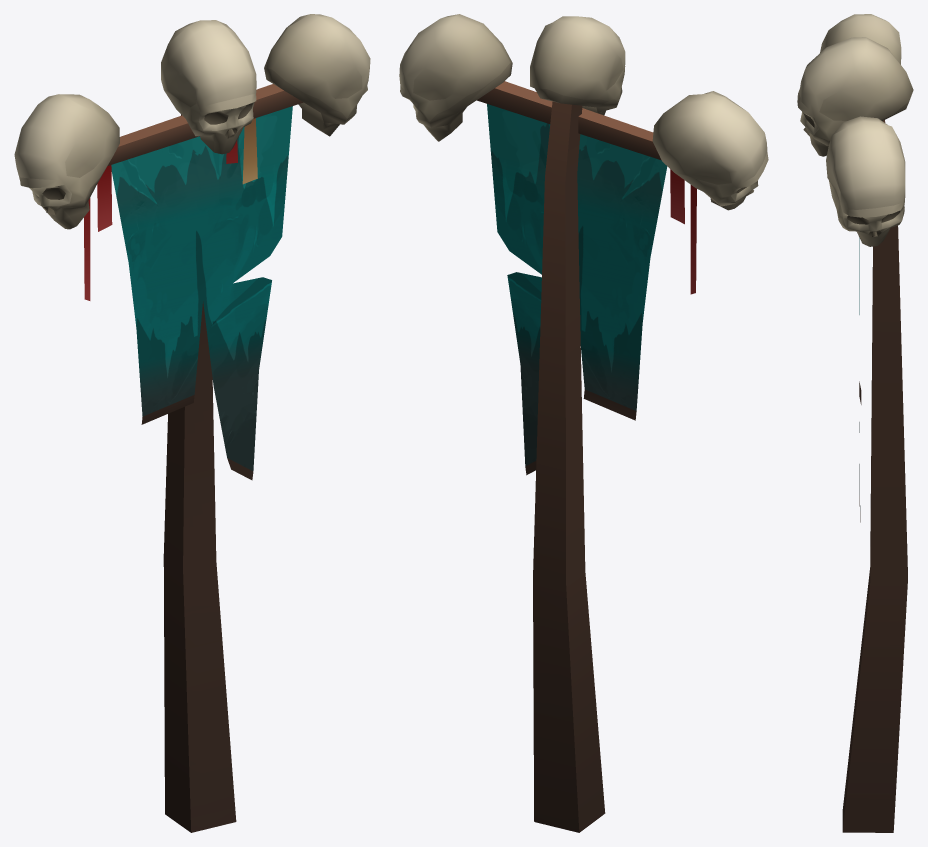
The model's file is Skull_Pole_2A.fbx.
3 views of the same model, side by side, from view 1: azimuth 30°, elevation 25°; view 2: azimuth 150°, elevation 25°; view 3: azimuth 270°, elevation 25° (orthographic). The views are drawn at different scales.
Parts seen in each view (by area): view 1: Skull_Pole_2A; view 2: Skull_Pole_2A; view 3: Skull_Pole_2A.
Boxes of the visible parts, x1,y1,x2,y2 form: Skull_Pole_2A: (14, 14, 370, 832); Skull_Pole_2A: (399, 14, 768, 832); Skull_Pole_2A: (797, 14, 913, 832).
Size of the model in its own units: 86.1 by 189 by 25.51.
